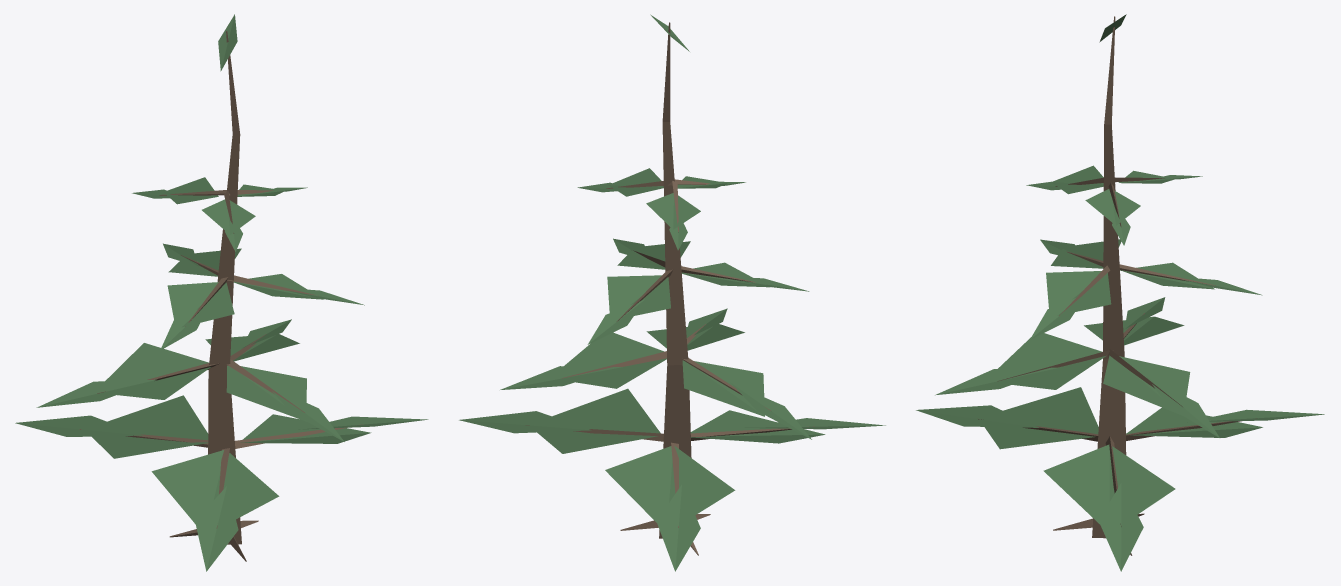
File: hemlock-sapling-lod2.glb
3 renders of one model, left to right at view 1: azimuth 30°, elevation 25°; view 2: azimuth 150°, elevation 25°; view 3: azimuth 270°, elevation 25°, orthographic. The views are drawn at different scales.
Visible parts, largest first — view 1: understory_hemlock-sapling_LOD2; view 2: understory_hemlock-sapling_LOD2; view 3: understory_hemlock-sapling_LOD2.
Part boxes in pixels (x1=…): understory_hemlock-sapling_LOD2: x1=15, y1=14, x2=428, y2=571; understory_hemlock-sapling_LOD2: x1=459, y1=14, x2=885, y2=571; understory_hemlock-sapling_LOD2: x1=916, y1=14, x2=1324, y2=571.
Bounding box in the file's own units: 2.07 × 2.75 × 1.94.
